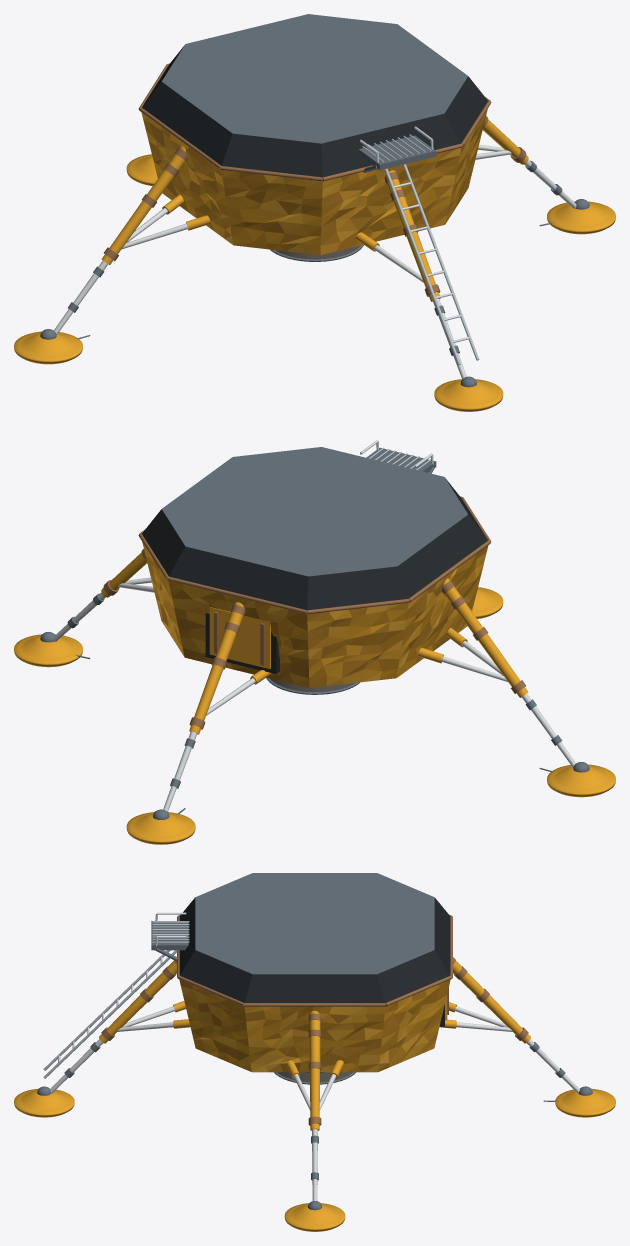
The model's file is eagle_descent.glb.
The picture shows the model from 3 angles, top to bottom: view 1: azimuth 30°, elevation 25°; view 2: azimuth 150°, elevation 25°; view 3: azimuth 270°, elevation 25°; orthographic projection. The views are drawn at different scales.
Parts seen in each view (by area): view 1: eagle_descent.thermal_blanket.mesh, eagle_descent.gear_left.main_strut.mesh, eagle_descent.gear_front.main_strut.ladder.mesh, eagle_descent.porch.mesh, eagle_descent.gear_front.main_strut.footpad.mesh, eagle_descent.gear_left.main_strut.footpad.mesh, eagle_descent.gear_right.main_strut.footpad.mesh, eagle_descent.gear_front.main_strut.mesh, eagle_descent.gear_right.main_strut.mesh, eagle_descent.gear_rear.main_strut.footpad.mesh, eagle_descent.dps.nozzle.mesh, eagle_descent.gear_left.brace_right.mesh (+1 smaller); view 2: eagle_descent.thermal_blanket.mesh, eagle_descent.equipment_bay.mesh, eagle_descent.gear_rear.main_strut.mesh, eagle_descent.gear_left.main_strut.mesh, eagle_descent.gear_rear.main_strut.footpad.mesh, eagle_descent.gear_left.main_strut.footpad.mesh, eagle_descent.gear_right.main_strut.footpad.mesh, eagle_descent.gear_right.main_strut.mesh, eagle_descent.porch.mesh, eagle_descent.gear_front.main_strut.footpad.mesh, eagle_descent.dps.nozzle.mesh, eagle_descent.gear_left.brace_left.mesh; view 3: eagle_descent.thermal_blanket.mesh, eagle_descent.gear_right.main_strut.mesh, eagle_descent.gear_rear.main_strut.mesh, eagle_descent.gear_front.main_strut.mesh, eagle_descent.gear_right.main_strut.footpad.mesh, eagle_descent.gear_front.main_strut.footpad.mesh, eagle_descent.gear_rear.main_strut.footpad.mesh, eagle_descent.porch.mesh, eagle_descent.gear_front.main_strut.ladder.mesh, eagle_descent.dps.nozzle.mesh.
Part boxes in pixels (<box>): eagle_descent.thermal_blanket.mesh: <box>138,14,491,255</box>; eagle_descent.gear_left.main_strut.mesh: <box>54,145,187,334</box>; eagle_descent.gear_front.main_strut.ladder.mesh: <box>384,164,479,364</box>; eagle_descent.porch.mesh: <box>358,126,436,172</box>; eagle_descent.gear_front.main_strut.footpad.mesh: <box>434,376,503,411</box>; eagle_descent.gear_left.main_strut.footpad.mesh: <box>14,329,82,364</box>; eagle_descent.gear_right.main_strut.footpad.mesh: <box>547,199,615,234</box>; eagle_descent.gear_front.main_strut.mesh: <box>384,170,466,379</box>; eagle_descent.gear_right.main_strut.mesh: <box>482,116,576,208</box>; eagle_descent.gear_rear.main_strut.footpad.mesh: <box>126,154,157,185</box>; eagle_descent.dps.nozzle.mesh: <box>270,244,363,261</box>; eagle_descent.gear_left.brace_right.mesh: <box>122,215,210,249</box>; eagle_descent.thermal_blanket.mesh: <box>138,447,491,687</box>; eagle_descent.equipment_bay.mesh: <box>205,607,279,674</box>; eagle_descent.gear_rear.main_strut.mesh: <box>163,602,245,811</box>; eagle_descent.gear_left.main_strut.mesh: <box>441,578,575,767</box>; eagle_descent.gear_rear.main_strut.footpad.mesh: <box>126,809,195,844</box>; eagle_descent.gear_left.main_strut.footpad.mesh: <box>547,762,615,797</box>; eagle_descent.gear_right.main_strut.footpad.mesh: <box>14,632,82,667</box>; eagle_descent.gear_right.main_strut.mesh: <box>53,549,147,641</box>; eagle_descent.porch.mesh: <box>360,440,436,473</box>; eagle_descent.gear_front.main_strut.footpad.mesh: <box>472,587,503,618</box>; eagle_descent.dps.nozzle.mesh: <box>266,677,359,694</box>; eagle_descent.gear_left.brace_left.mesh: <box>418,647,507,681</box>; eagle_descent.thermal_blanket.mesh: <box>177,873,452,1072</box>; eagle_descent.gear_right.main_strut.mesh: <box>308,1010,321,1200</box>; eagle_descent.gear_rear.main_strut.mesh: <box>453,957,579,1093</box>; eagle_descent.gear_front.main_strut.mesh: <box>50,960,176,1093</box>; eagle_descent.gear_right.main_strut.footpad.mesh: <box>284,1201,345,1231</box>; eagle_descent.gear_front.main_strut.footpad.mesh: <box>14,1086,74,1117</box>; eagle_descent.gear_rear.main_strut.footpad.mesh: <box>555,1086,615,1117</box>; eagle_descent.porch.mesh: <box>151,912,189,961</box>; eagle_descent.gear_front.main_strut.ladder.mesh: <box>43,950,177,1078</box>; eagle_descent.dps.nozzle.mesh: <box>274,1072,355,1084</box>.
Size of the model in its own units: 9.45 by 3.19 by 9.45.
